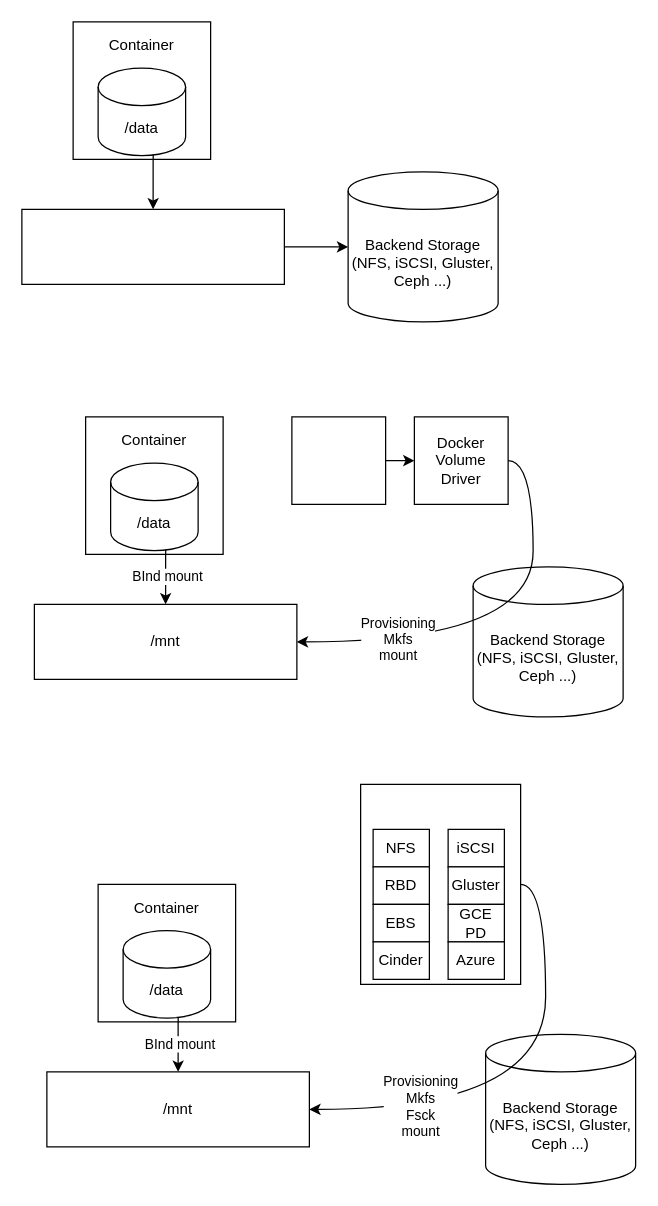
Some shapes in this 658 by 1206 pixel diagram are drawn without their labels. Here are the shapes that lost their labels. From the top down, the box of each, then its label:
(21, 208, 284, 284): /mnt Host OS
(291, 416, 386, 504): Docker Daemon
(359, 783, 521, 984): kubelet
